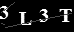3: (38, 8, 49, 23), (1, 5, 9, 20)
L: (18, 11, 33, 25)
T: (58, 8, 72, 22)
